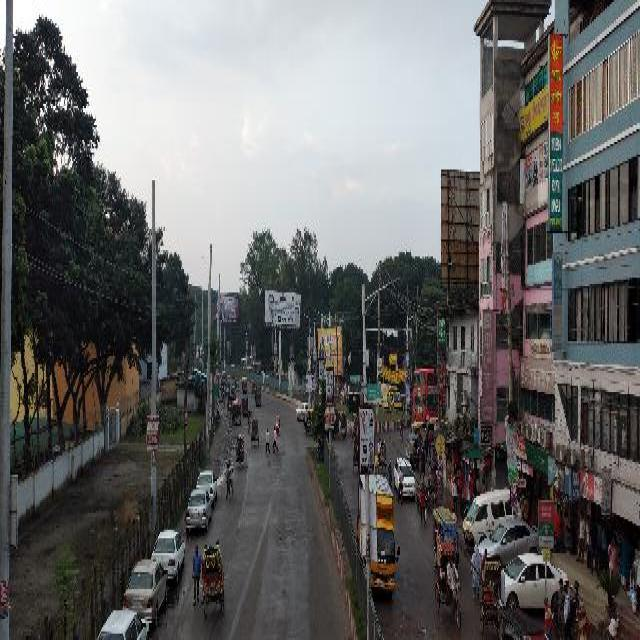bike: (424, 478, 432, 505), (400, 425, 404, 440), (429, 455, 433, 470), (276, 421, 280, 431)
vehicle: (359, 472, 400, 593), (503, 551, 569, 608), (463, 487, 523, 544), (124, 556, 168, 620), (478, 518, 541, 558), (436, 542, 462, 627), (153, 527, 186, 580), (433, 508, 460, 568), (481, 556, 502, 630), (203, 546, 225, 614), (98, 607, 150, 635), (414, 366, 439, 421), (187, 488, 212, 529), (394, 454, 416, 495), (197, 470, 218, 506), (381, 381, 402, 409), (406, 433, 418, 461), (335, 409, 348, 434), (379, 436, 388, 472), (237, 435, 245, 469), (304, 409, 314, 430), (251, 417, 259, 443), (353, 436, 359, 468), (233, 402, 242, 421), (297, 402, 308, 417), (242, 395, 248, 414), (256, 387, 262, 404), (228, 395, 233, 414), (243, 375, 248, 390), (252, 379, 256, 394)
